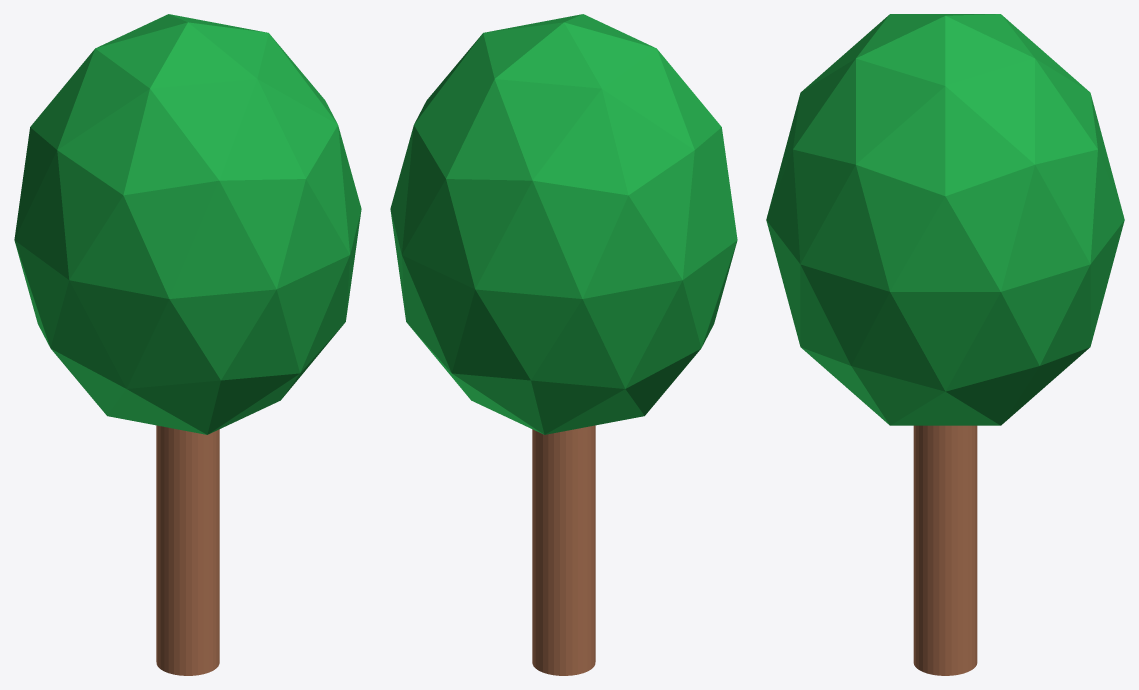
File: tree.glb
3 renders of one model, left to right at view 1: azimuth 30°, elevation 25°; view 2: azimuth 150°, elevation 25°; view 3: azimuth 270°, elevation 25°, orthographic.
Visible parts, largest first — view 1: ICO球, 円柱; view 2: ICO球, 円柱; view 3: ICO球, 円柱.
Boxes of the visible parts, box(x1,y1,x2,y2) form: ICO球: box(14, 14, 361, 434); 円柱: box(156, 425, 219, 675); ICO球: box(390, 14, 737, 434); 円柱: box(532, 425, 595, 675); ICO球: box(766, 14, 1124, 425); 円柱: box(913, 425, 977, 675).
Bounding box in the file's own units: 1.09 × 2.29 × 1.15.
2 materials, 2 textured.
